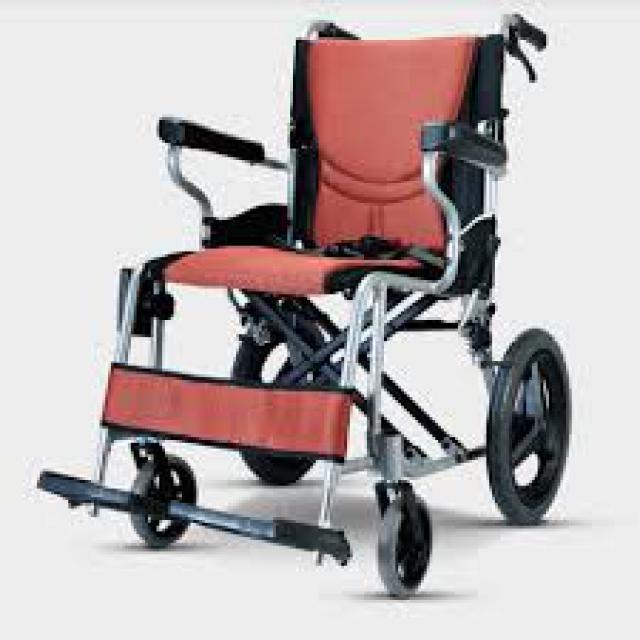wheelchair: (28, 6, 603, 626)
